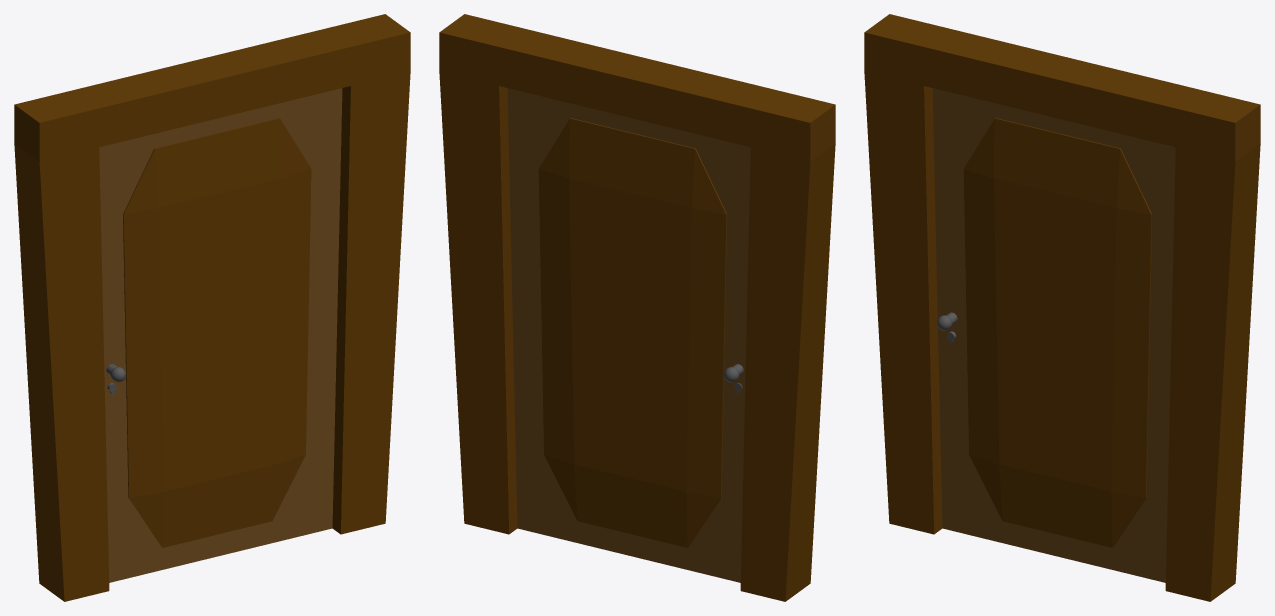
File: Door.fbx
The picture shows the model from 3 angles, left to right: view 1: azimuth 30°, elevation 25°; view 2: azimuth 150°, elevation 25°; view 3: azimuth 330°, elevation 25°; orthographic projection.
Parts seen in each view (by area): view 1: Door, Doorway; view 2: Door, Doorway; view 3: Door, Doorway.
Part boxes in pixels (x1,y1,x2,y2): Door: (99, 88, 342, 582); Doorway: (14, 14, 410, 601); Door: (507, 88, 750, 582); Doorway: (439, 14, 835, 601); Door: (932, 88, 1175, 582); Doorway: (864, 14, 1260, 601).
Bounding box in the file's own units: 566 × 707 × 82.92.
